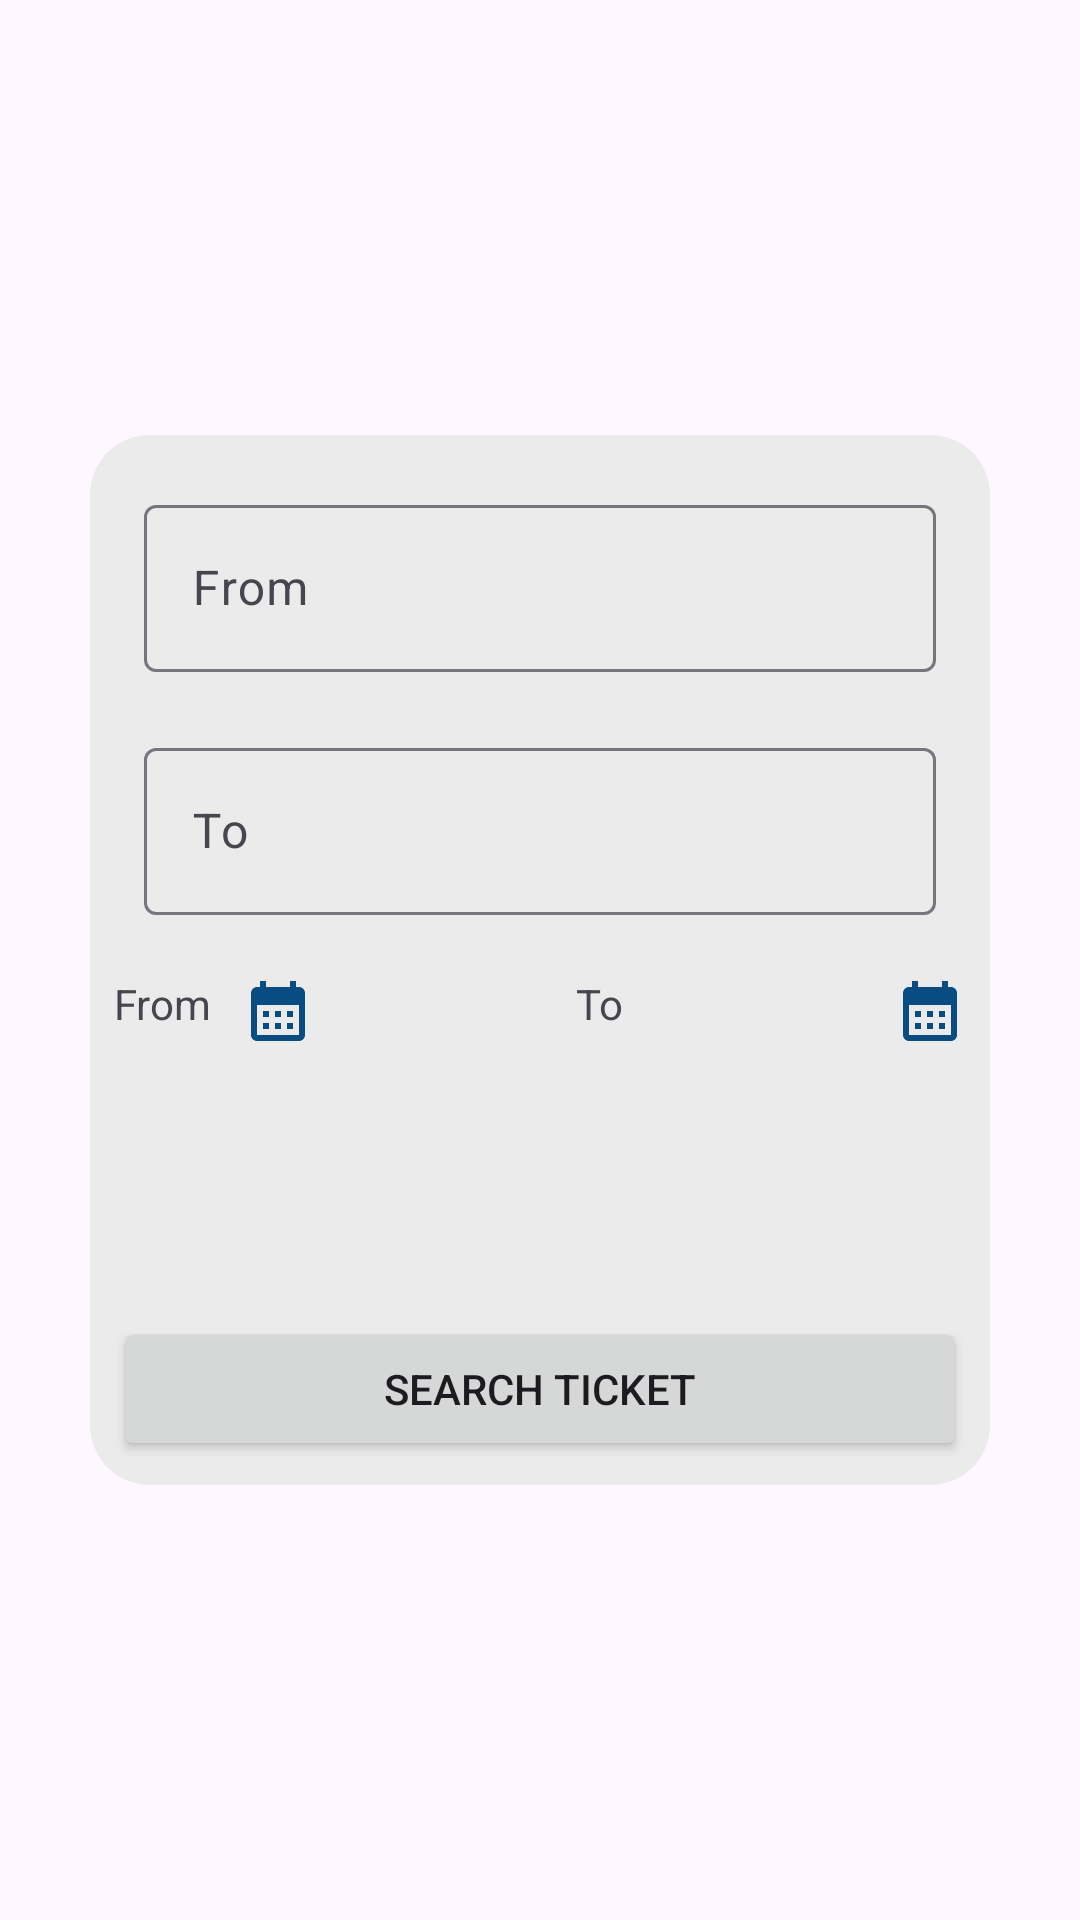

Icons on this 1080*1920 Android screen, each with its box as (x1, y1, x2, y2):
calendar: (251, 981, 305, 1041), (903, 981, 957, 1041)
